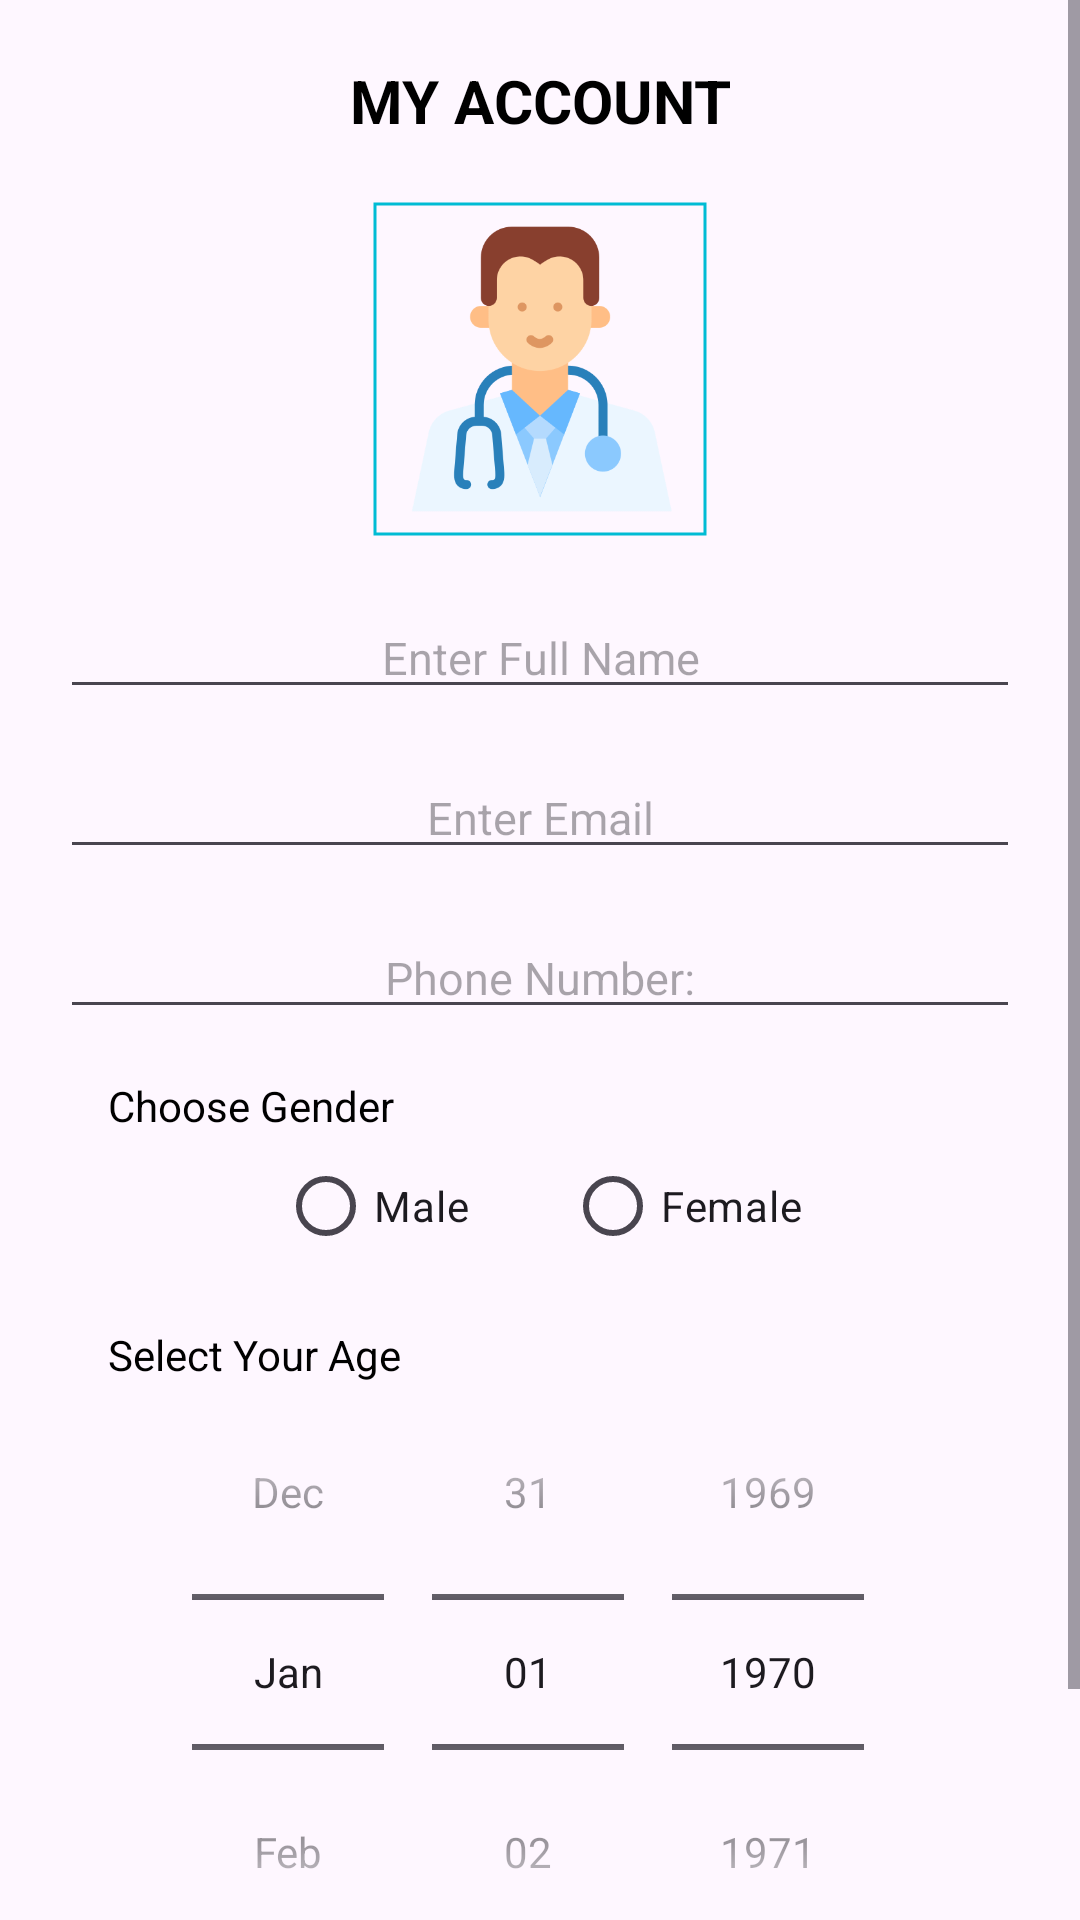

Where to tap for icons on this 1080 × 1920 app screen, as [x,y]:
doctor: [540,369]
